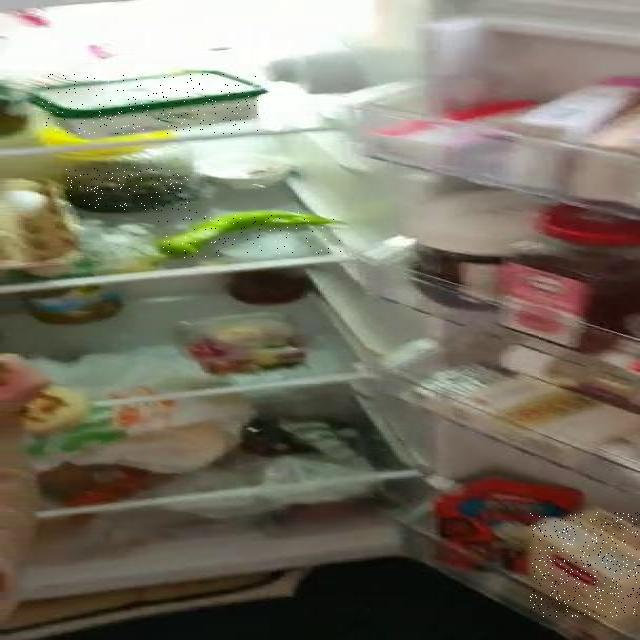cream cheese: (42, 73, 258, 134)
green chilies: (158, 212, 341, 258)
milk: (530, 512, 640, 617)
olives: (65, 167, 190, 211)
